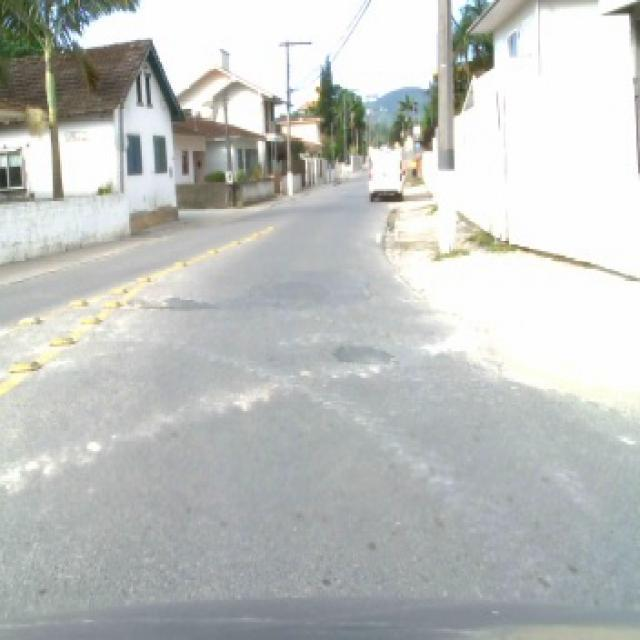Poth-hole: (426, 326, 498, 372), (0, 451, 55, 493), (228, 380, 276, 413), (120, 293, 218, 307), (327, 362, 380, 380), (5, 358, 42, 369), (46, 334, 74, 344), (84, 438, 104, 451), (616, 432, 636, 444), (16, 314, 40, 322), (78, 314, 98, 322), (68, 296, 88, 304), (296, 366, 311, 376), (108, 284, 126, 292), (132, 273, 150, 280), (100, 298, 120, 304), (170, 258, 186, 264), (206, 246, 217, 252), (229, 238, 240, 242)
